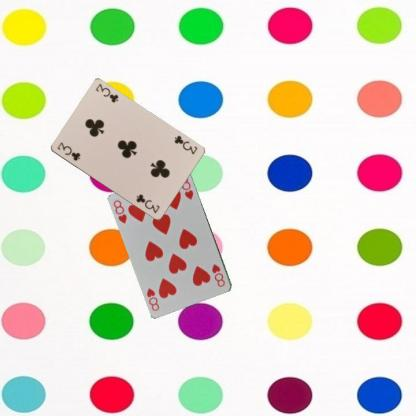3c: (54, 140, 82, 162), (172, 133, 198, 156)
8h: (209, 261, 227, 288), (111, 198, 128, 225)
